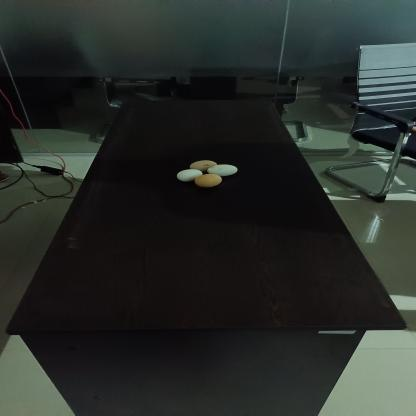egg: (176, 168, 203, 182), (194, 175, 224, 187), (208, 164, 239, 175), (189, 161, 218, 172)
